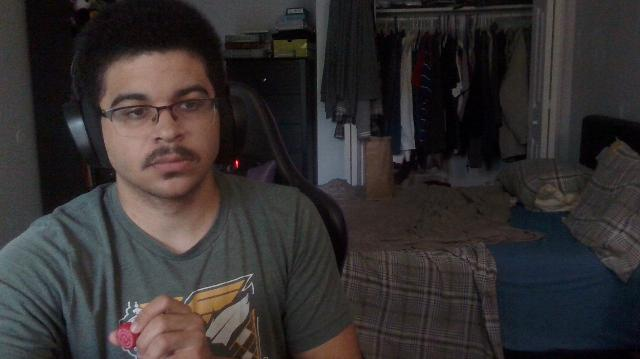cap: (117, 322, 139, 350)
